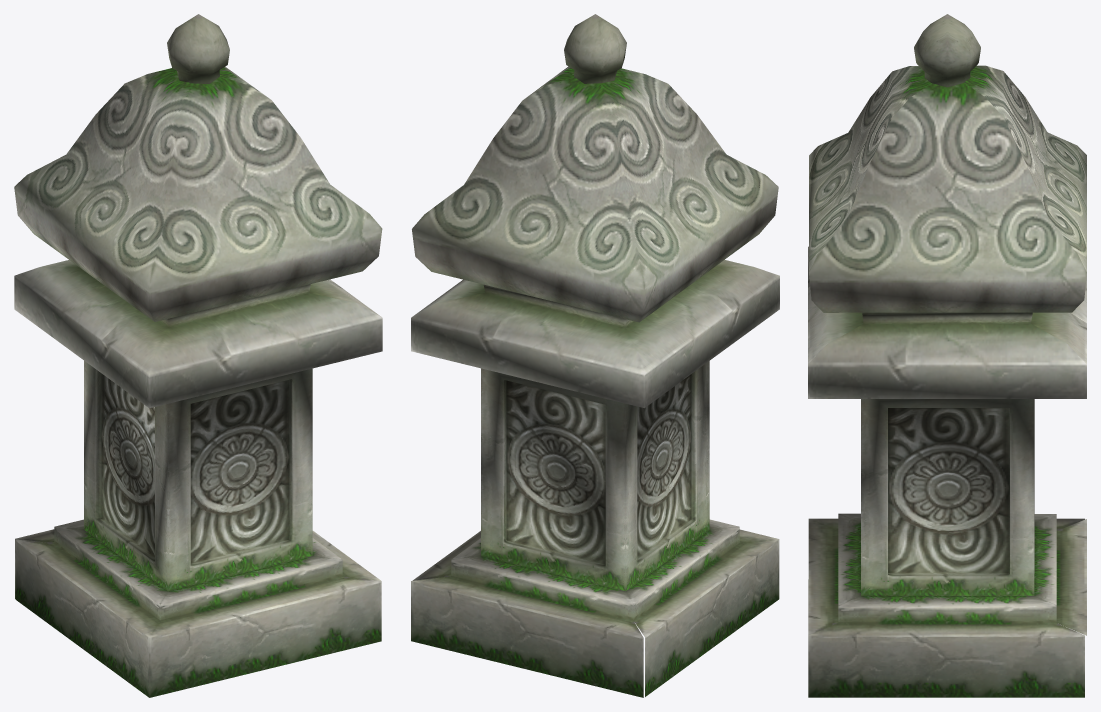
The model's file is xx_shizhu2.FBX.
The picture shows the model from 3 angles, left to right: view 1: azimuth 30°, elevation 25°; view 2: azimuth 150°, elevation 25°; view 3: azimuth 270°, elevation 25°; orthographic projection. The views are drawn at different scales.
Parts seen in each view (by area): view 1: xx_shizhu2; view 2: xx_shizhu2; view 3: xx_shizhu2.
Boxes of the visible parts, x1,y1,x2,y2 form: xx_shizhu2: (14, 14, 382, 697); xx_shizhu2: (411, 14, 779, 697); xx_shizhu2: (808, 14, 1086, 697).
Size of the model in its own units: 12.77 by 31.66 by 12.8.
